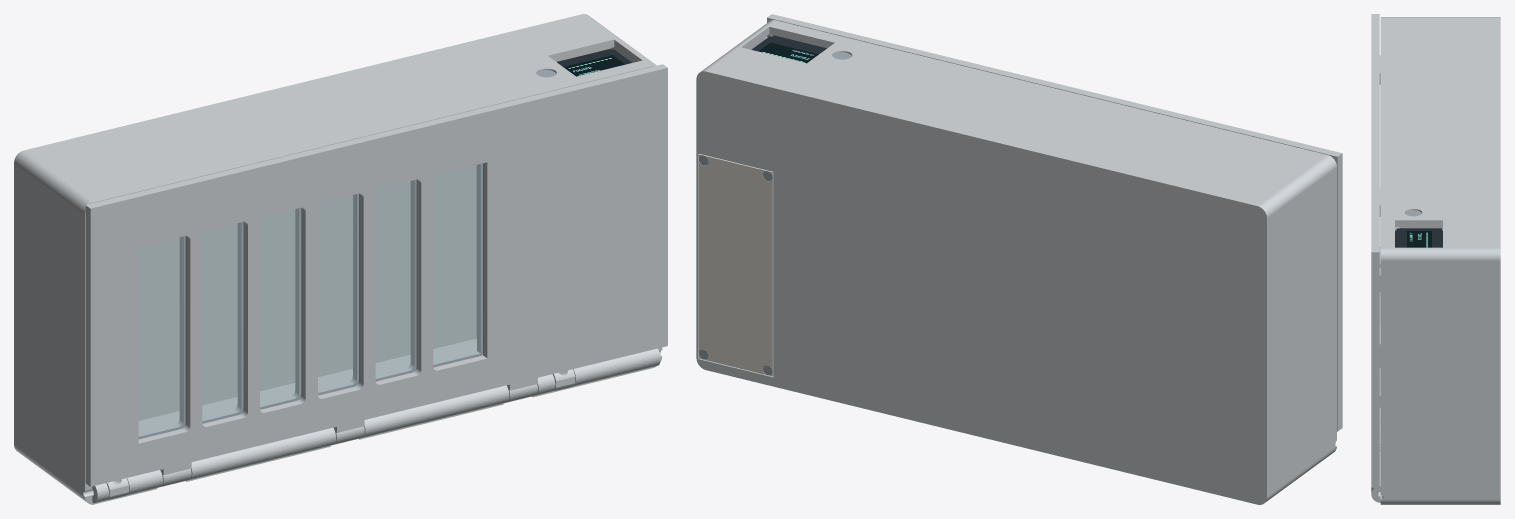
3 renders of one model, left to right at view 1: azimuth 30°, elevation 25°; view 2: azimuth 150°, elevation 25°; view 3: azimuth 270°, elevation 25°, orthographic. The views are drawn at different scales.
Parts seen in each view (by area): view 1: lid, base_box, acrylic, window_grille, window_pad_bottom, window_pad_top, oled; view 2: base_box, battery_hatch, lid, oled; view 3: base_box, lid, oled, acrylic.
Boxes of the visible parts, x1,y1,x2,y2 form: lid: (85,64,667,486); base_box: (14,14,662,504); acrylic: (139,164,482,438); window_grille: (138,164,480,436); window_pad_bottom: (138,163,482,438); window_pad_top: (139,163,483,439); oled: (557,49,631,76); base_box: (696,20,1336,504); battery_hatch: (698,154,773,376); lid: (767,14,1342,431); oled: (751,35,826,63); base_box: (1371,17,1500,504); lid: (1371,14,1380,487); oled: (1395,228,1442,247); acrylic: (1380,85,1380,392).
Size of the model in its own units: 0.24 by 0.12 by 0.055.
Materials: 47 (1 with a texture image).
